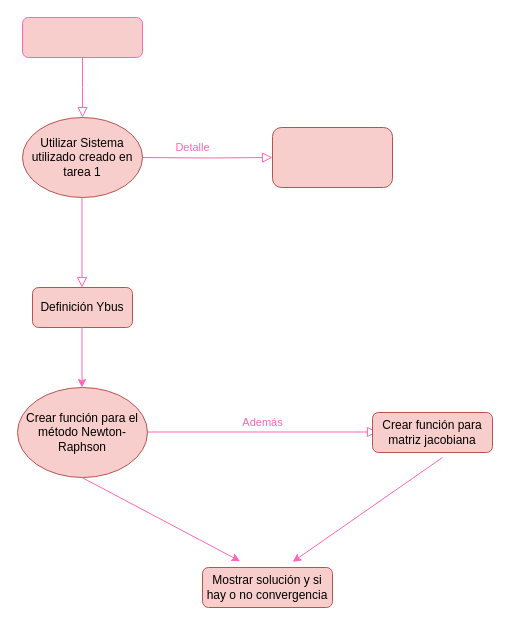
This 510x625 diagram has some shape labels left out. The centre of each missing label's shape, as x and y in pixels:
Algoritmo: (82,37)
Cambiar valores de potencia en negativo, dado que son cargas: (332,157)
